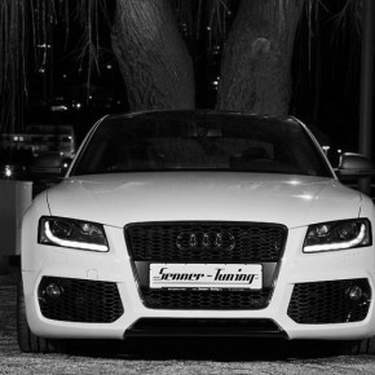car: (15, 106, 373, 360)
